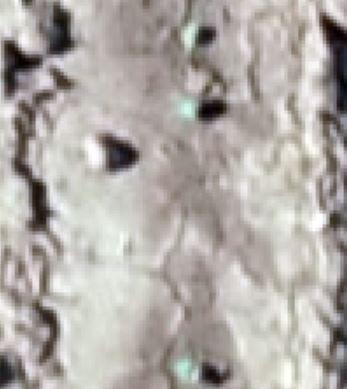cotton: (184, 23, 200, 47), (177, 361, 193, 383), (180, 100, 197, 119)
